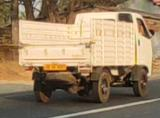Truck: (15, 9, 154, 105)
